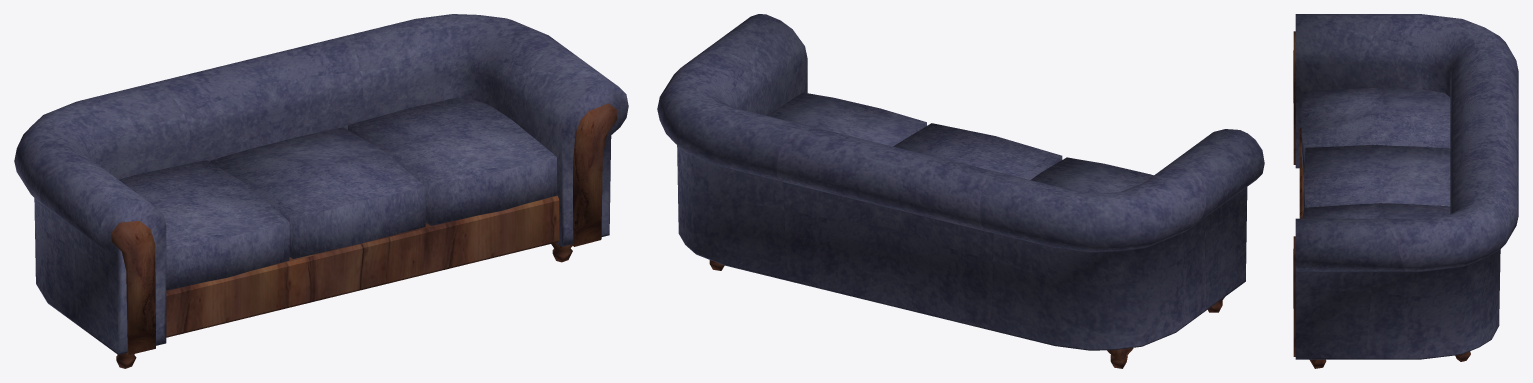
File: sofa_3.fbx
The picture shows the model from 3 angles, left to right: view 1: azimuth 30°, elevation 25°; view 2: azimuth 150°, elevation 25°; view 3: azimuth 270°, elevation 25°; orthographic projection. The views are drawn at different scales.
Visible parts, largest first — view 1: Cube; view 2: Cube; view 3: Cube.
Part boxes in pixels (left/top/right/bottom): Cube: left=14, top=14, right=628, bottom=368; Cube: left=657, top=14, right=1264, bottom=368; Cube: left=1293, top=14, right=1518, bottom=368.
Size of the model in its own units: 382 by 122 by 159.
